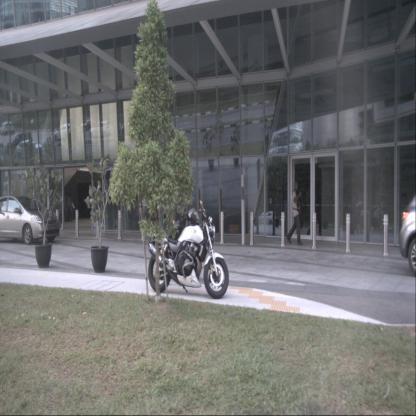human-pedestrian-adult: (287, 181, 303, 246)
vehicle-car: (0, 195, 60, 245), (399, 188, 415, 277), (15, 140, 43, 160), (6, 132, 33, 151), (54, 123, 79, 142), (90, 121, 113, 138), (255, 210, 279, 225), (0, 122, 15, 136), (80, 120, 95, 131)
vehicle-motorcycle: (148, 200, 228, 299), (356, 200, 387, 231)
